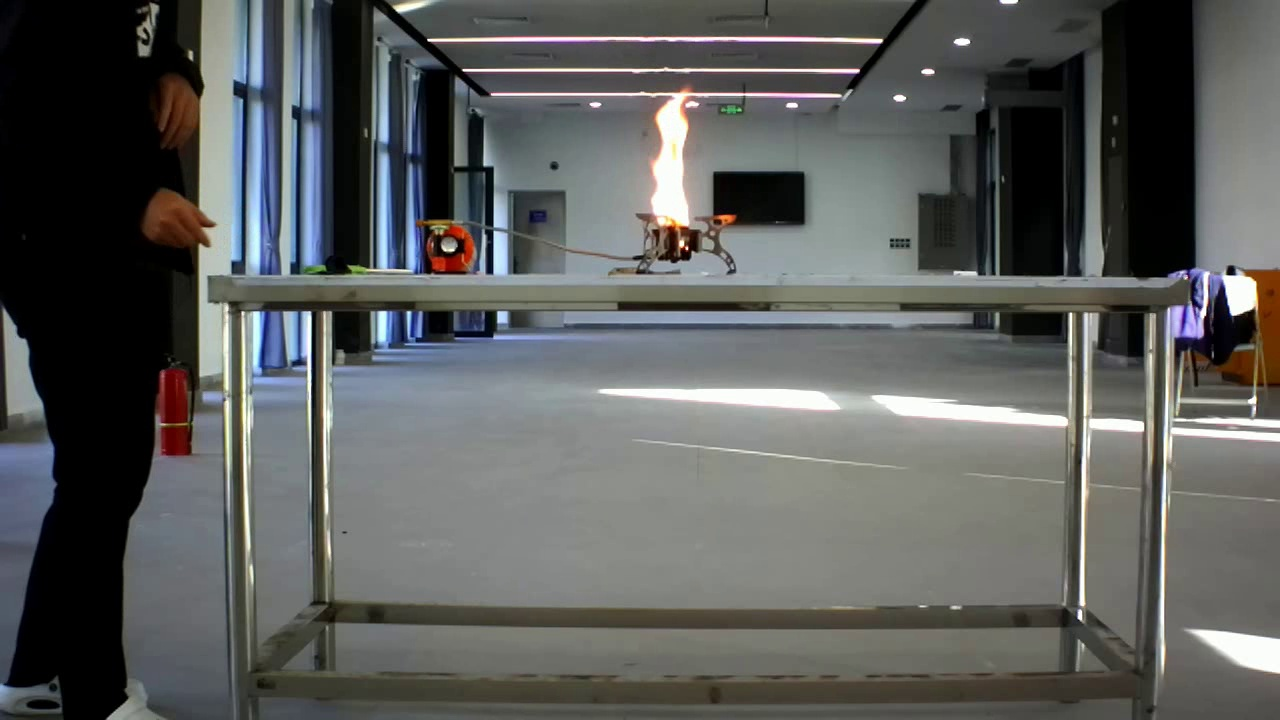Fire: (631, 86, 739, 265)
